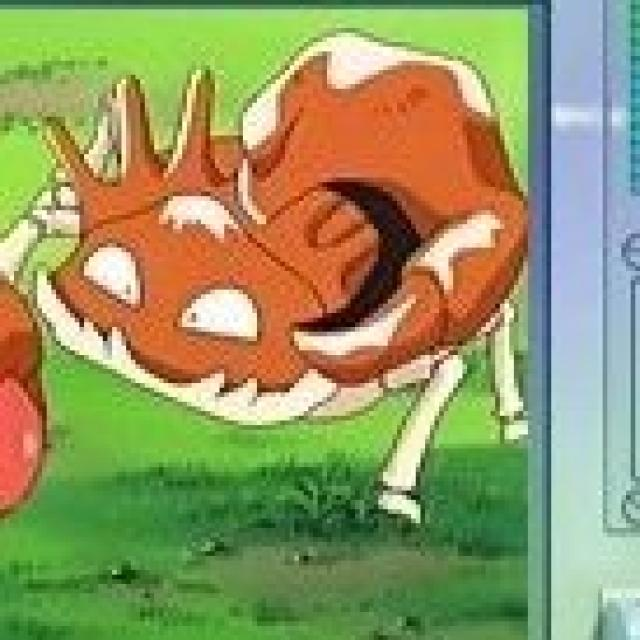Kingler: (2, 53, 528, 439)
